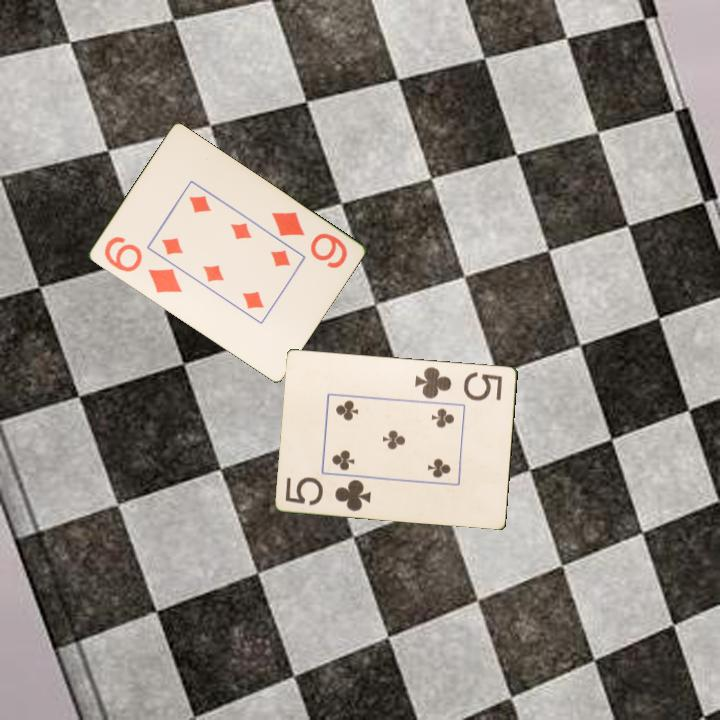5c: (282, 473, 374, 514), (411, 363, 505, 403)
6d: (100, 233, 185, 296), (268, 208, 350, 271)
